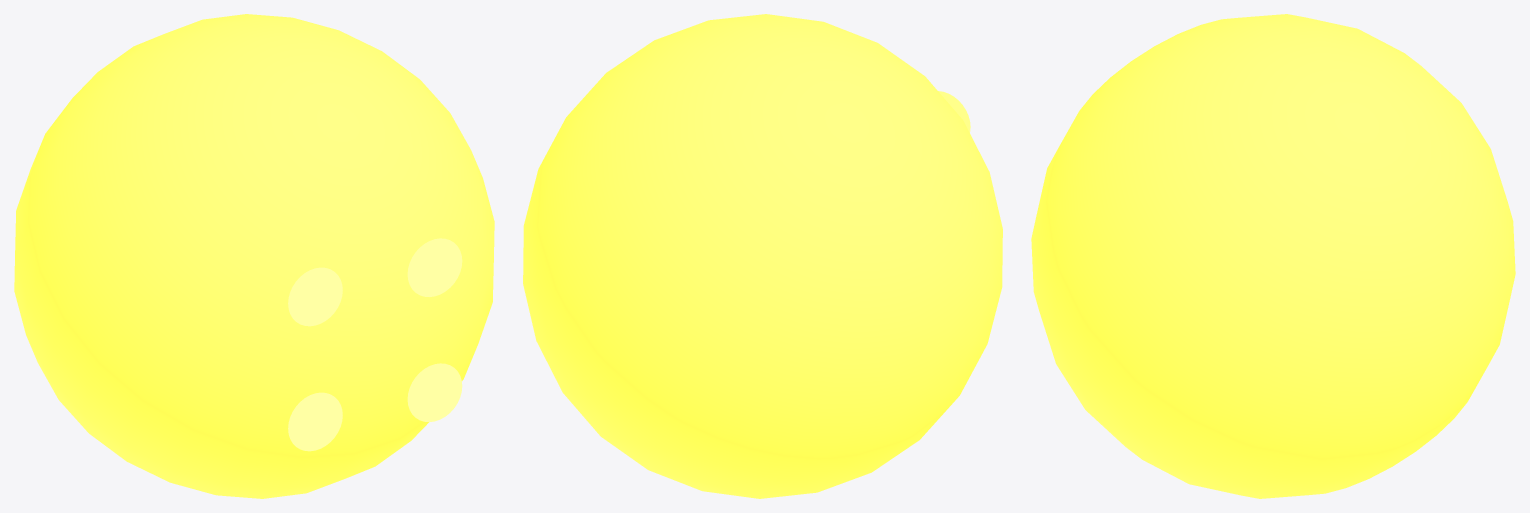
The model's file is ball-4.glb.
The picture shows the model from 3 angles, left to right: view 1: azimuth 30°, elevation 25°; view 2: azimuth 150°, elevation 25°; view 3: azimuth 270°, elevation 25°; orthographic projection.
Parts seen in each view (by area): view 1: BallGlow, LogosGlow; view 2: BallGlow; view 3: BallGlow.
Part boxes in pixels (x1=…): BallGlow: x1=14, y1=14, x2=494, y2=498; LogosGlow: x1=288, y1=238, x2=462, y2=451; BallGlow: x1=523, y1=14, x2=1002, y2=498; BallGlow: x1=1031, y1=14, x2=1515, y2=498.
Size of the model in its own units: 0.333 by 0.3376 by 0.3368.
